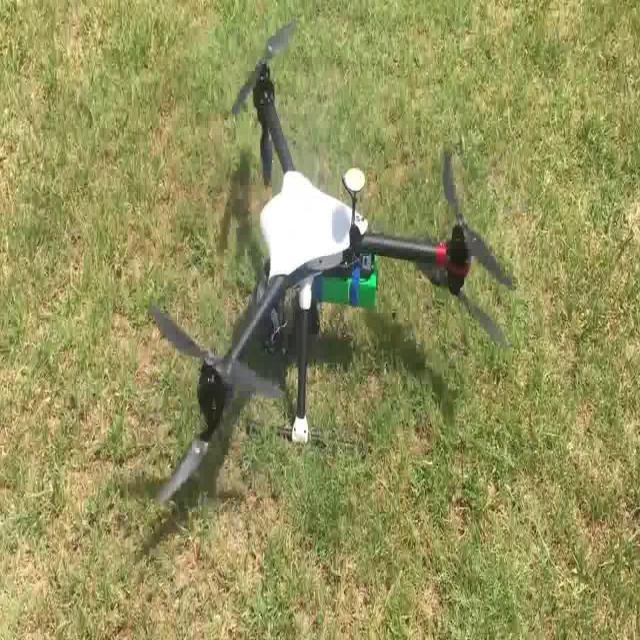drone: (167, 22, 483, 478)
